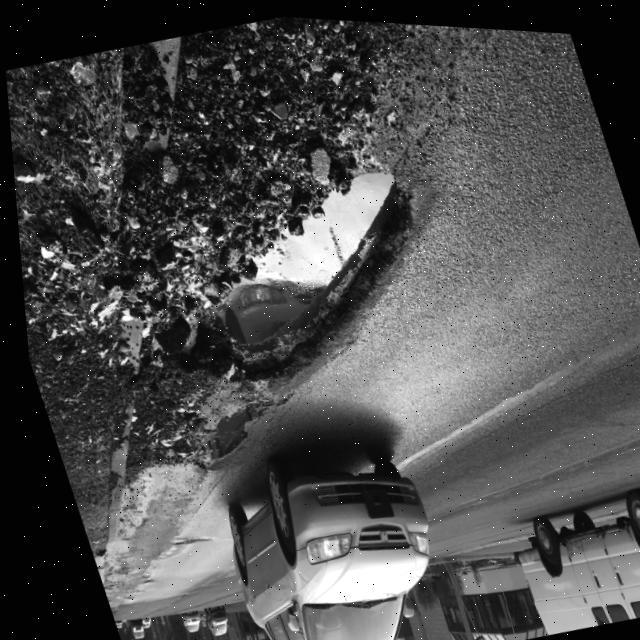pothole: (150, 138, 460, 404), (162, 377, 272, 478)
